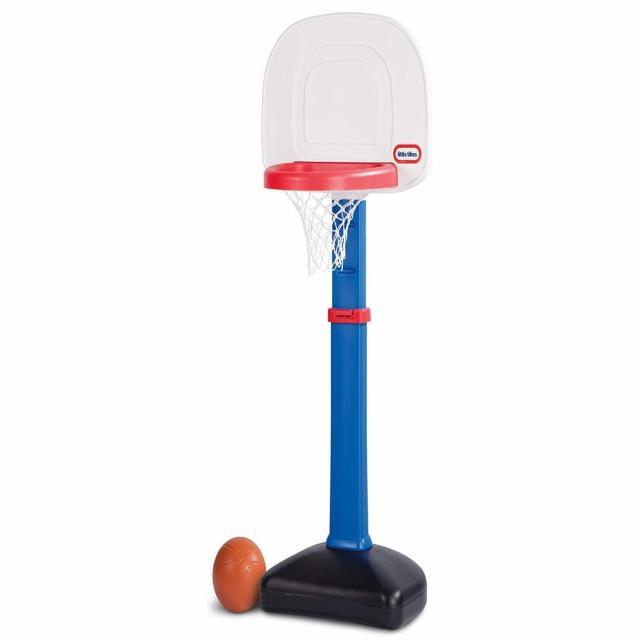Basketball: (212, 537, 266, 613)
hoop: (264, 162, 398, 276)
